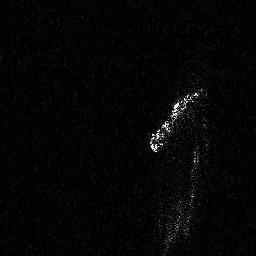ship: (145, 78, 211, 158)
